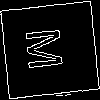M: (25, 24, 73, 72)
